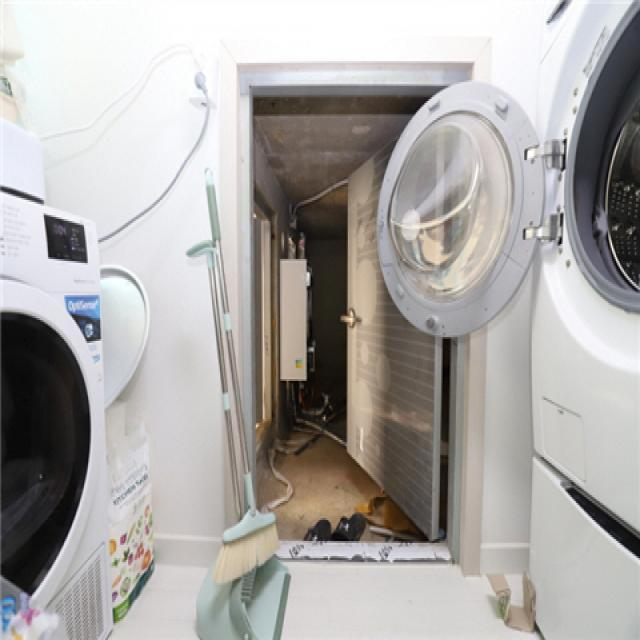Boiler: (273, 238, 321, 402)
